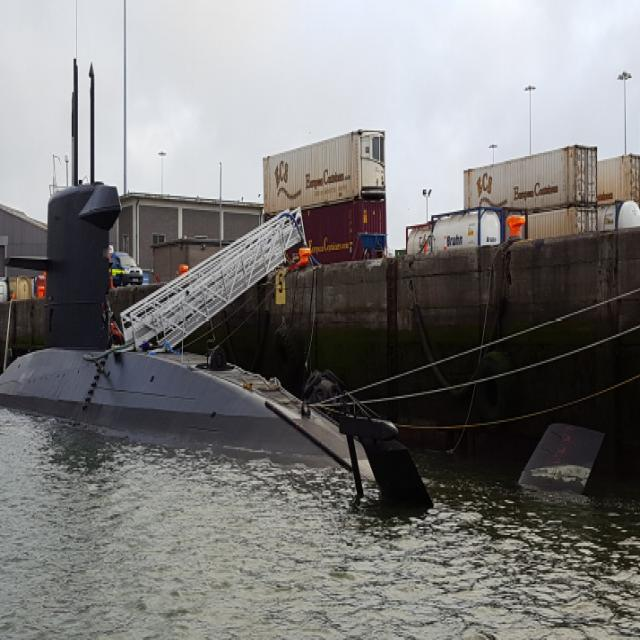submarine: (1, 19, 389, 465)
